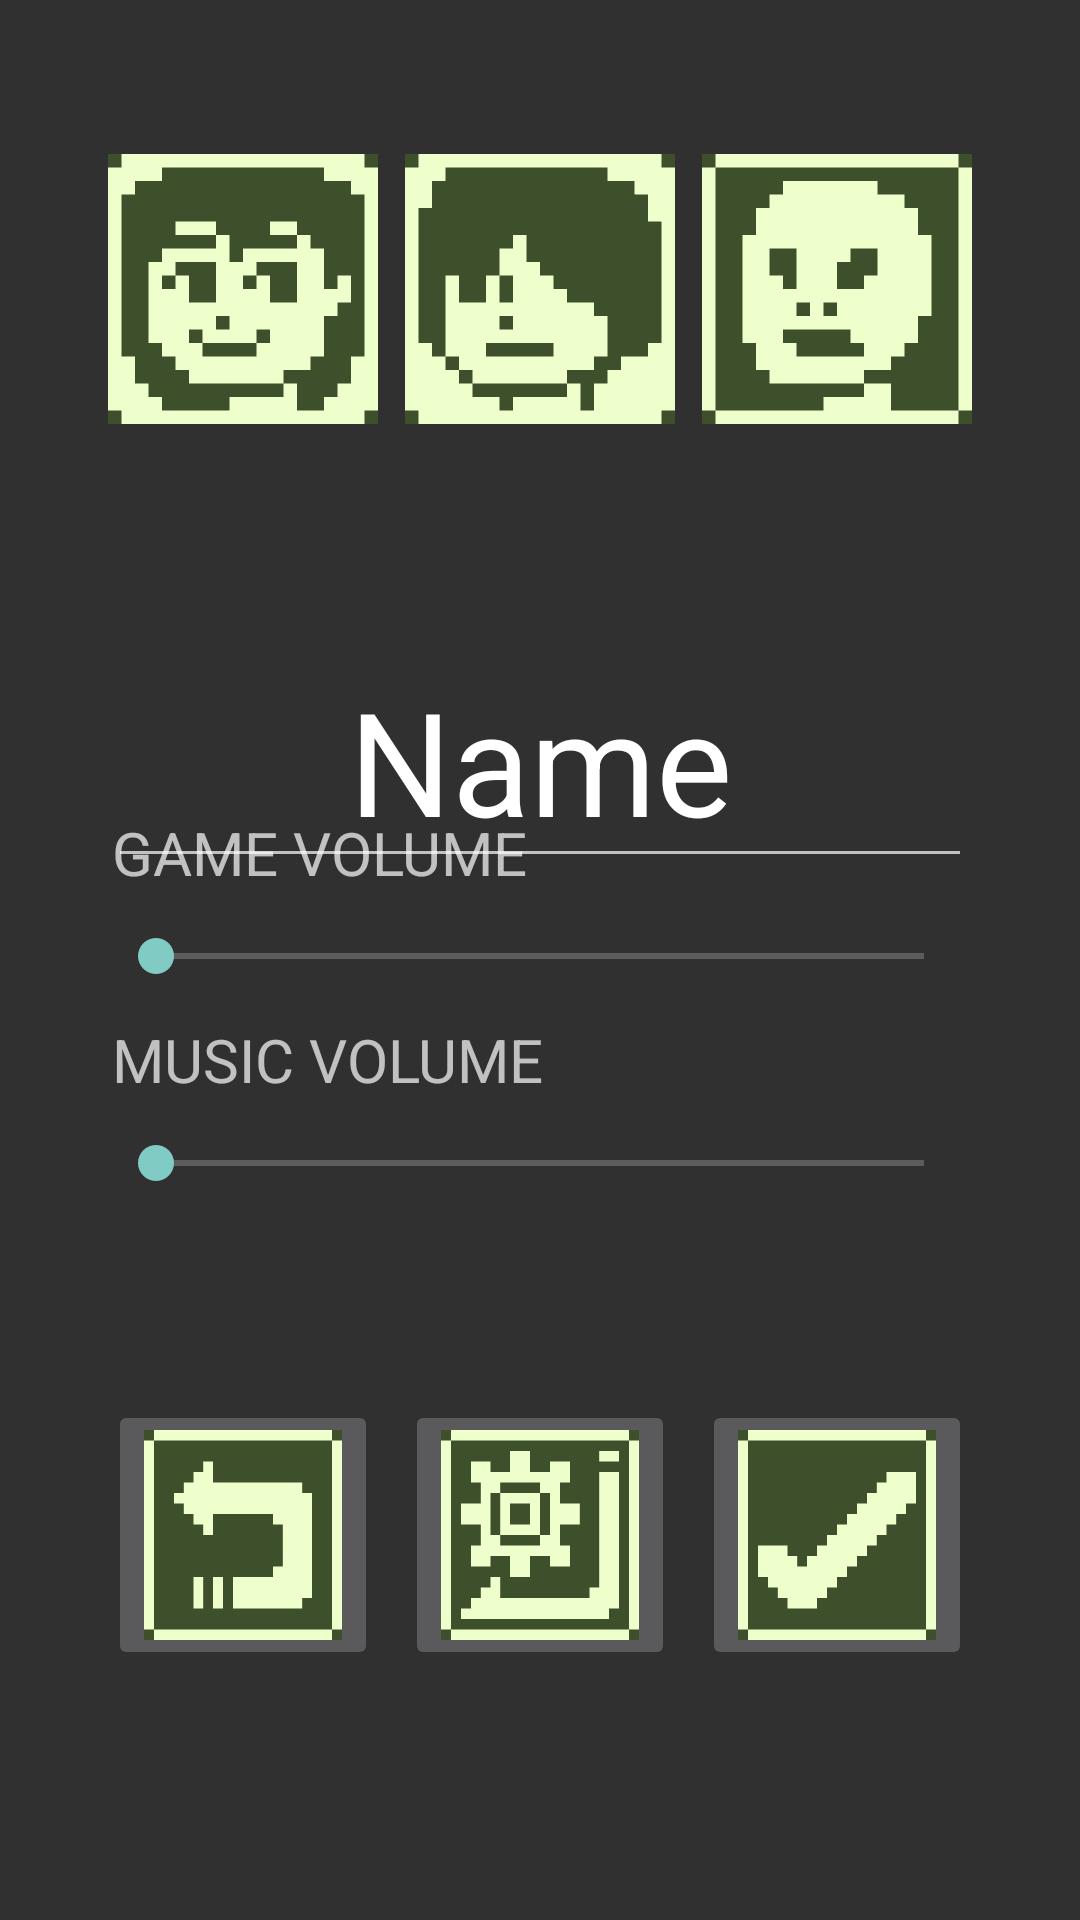

Point at icon controls on the screen. Image size 1080×1920, points as (x,y).
back: (243,1535)
confirm: (837,1535)
player alien: (837,289)
player human: (243,289), (540,289)
settings: (540,1535)
